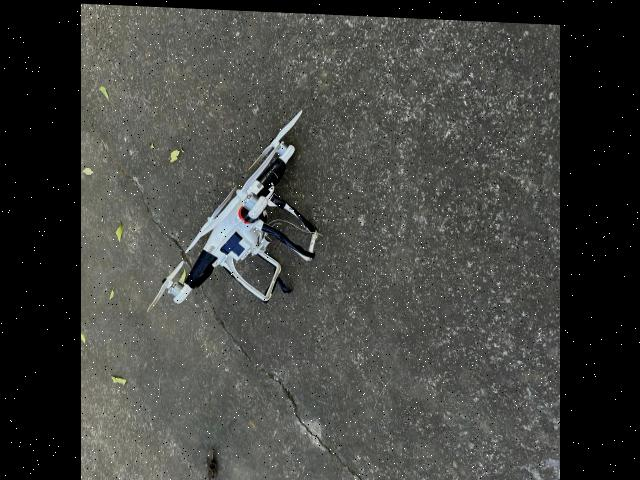drone: (117, 46, 366, 405)
